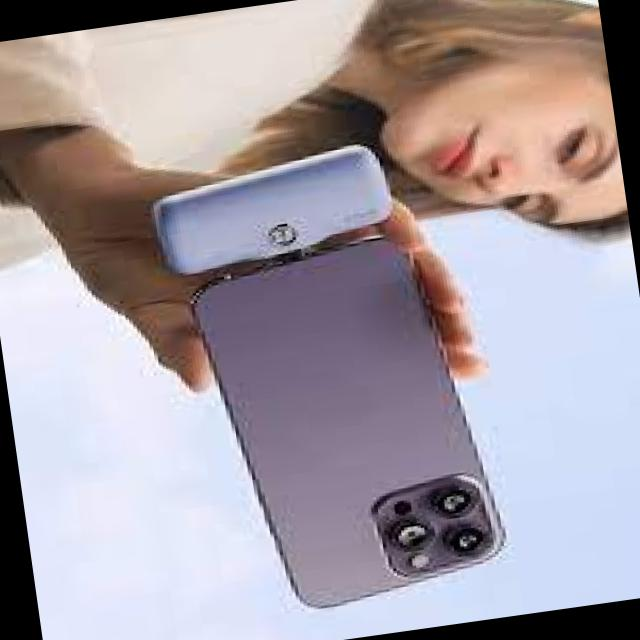portable-charger: (142, 136, 410, 288)
